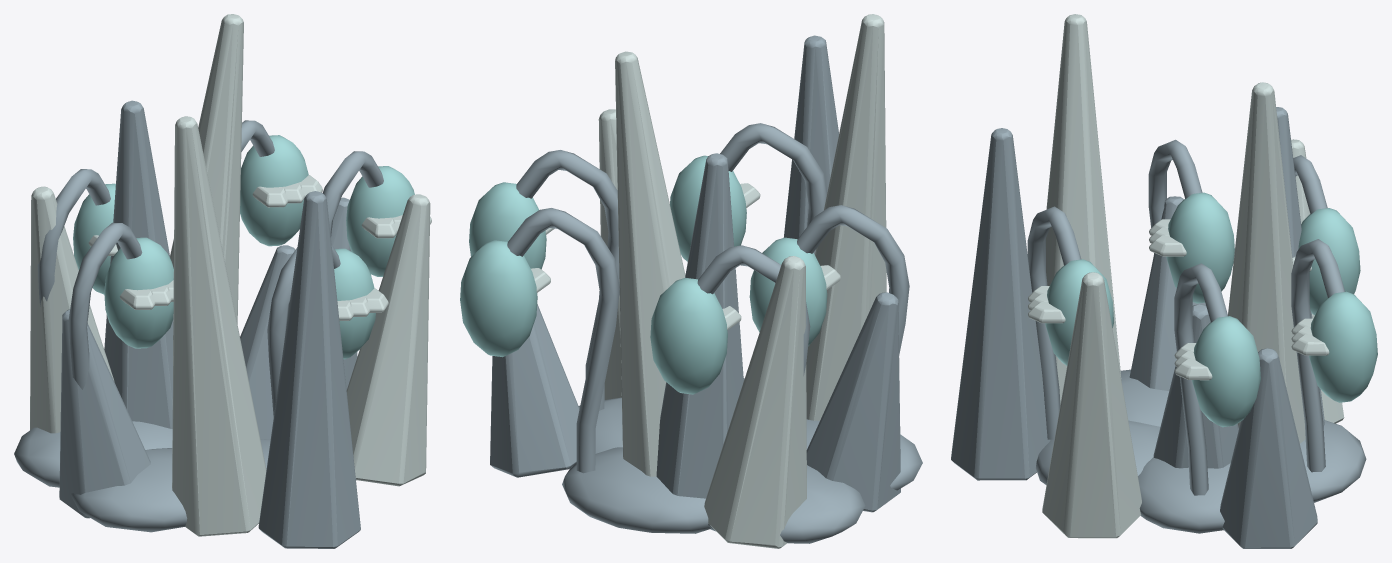
Rendered from bio_crystal_fan_03_far.glb.
3 renders of one model, left to right at view 1: azimuth 30°, elevation 25°; view 2: azimuth 150°, elevation 25°; view 3: azimuth 270°, elevation 25°, orthographic. The views are drawn at different scales.
Visible parts, largest first — view 1: Reflecting mineral prism.007, Reflecting mineral prism.002, Reflecting mineral prism.005, Reflecting mineral prism.006, Reflecting mineral prism.004, Mineral substrate, Reflecting mineral prism.003, Reflecting mineral prism.001, Pendant spore capsule.004, Pendant spore capsule.003, Pendant spore capsule, Reflecting mineral prism (+12 smaller); view 2: Reflecting mineral prism.001, Reflecting mineral prism.003, Reflecting mineral prism.007, Mineral substrate, Reflecting mineral prism.004, Reflecting mineral prism.006, Reflecting mineral prism.008, Pendant spore capsule.003, Pendant spore capsule.001, Arched fruit stem.003, Reflecting mineral prism.002, Arched fruit stem.004 (+7 smaller); view 3: Reflecting mineral prism.002, Reflecting mineral prism.005, Reflecting mineral prism.003, Reflecting mineral prism.008, Reflecting mineral prism.007, Mineral substrate, Pendant spore capsule.003, Pendant spore capsule, Reflecting mineral prism.004, Pendant spore capsule.004, Arched fruit stem.003, Arched fruit stem (+12 smaller).
Part boxes in pixels (x1=…): Reflecting mineral prism.007: x1=172, y1=116, x2=266, y2=536; Reflecting mineral prism.002: x1=258, y1=191, x2=360, y2=548; Reflecting mineral prism.005: x1=346, y1=194, x2=430, y2=486; Reflecting mineral prism.006: x1=104, y1=100, x2=173, y2=428; Reflecting mineral prism.004: x1=59, y1=309, x2=150, y2=518; Mineral substrate: x1=14, y1=421, x2=356, y2=532; Reflecting mineral prism.003: x1=170, y1=14, x2=243, y2=355; Reflecting mineral prism.001: x1=30, y1=186, x2=114, y2=433; Pendant spore capsule.004: x1=104, y1=237, x2=173, y2=348; Pendant spore capsule.003: x1=240, y1=135, x2=308, y2=246; Pendant spore capsule: x1=346, y1=166, x2=414, y2=276; Reflecting mineral prism: x1=240, y1=245, x2=295, y2=439; Reflecting mineral prism.001: x1=704, y1=256, x2=806, y2=548; Reflecting mineral prism.003: x1=615, y1=51, x2=685, y2=476; Reflecting mineral prism.007: x1=806, y1=14, x2=886, y2=420; Mineral substrate: x1=562, y1=378, x2=922, y2=543; Reflecting mineral prism.004: x1=806, y1=292, x2=900, y2=512; Reflecting mineral prism.006: x1=656, y1=153, x2=743, y2=498; Reflecting mineral prism.008: x1=490, y1=304, x2=579, y2=477; Pendant spore capsule.003: x1=460, y1=240, x2=537, y2=357; Pendant spore capsule.001: x1=650, y1=277, x2=727, y2=394; Arched fruit stem.003: x1=507, y1=208, x2=619, y2=473; Reflecting mineral prism.002: x1=783, y1=35, x2=838, y2=238; Arched fruit stem.004: x1=797, y1=205, x2=909, y2=355; Reflecting mineral prism.002: x1=951, y1=128, x2=1050, y2=480; Reflecting mineral prism.005: x1=1042, y1=272, x2=1141, y2=538; Reflecting mineral prism.003: x1=1228, y1=82, x2=1305, y2=443; Reflecting mineral prism.008: x1=1220, y1=348, x2=1317, y2=548; Reflecting mineral prism.007: x1=1046, y1=14, x2=1121, y2=404; Mineral substrate: x1=1036, y1=369, x2=1366, y2=533; Pendant spore capsule.003: x1=1309, y1=291, x2=1377, y2=402; Pendant spore capsule: x1=1192, y1=316, x2=1260, y2=427; Reflecting mineral prism.004: x1=1129, y1=196, x2=1205, y2=390; Pendant spore capsule.004: x1=1166, y1=192, x2=1234, y2=303; Arched fruit stem.003: x1=1291, y1=239, x2=1344, y2=472; Arched fruit stem: x1=1174, y1=263, x2=1227, y2=495.
Bounding box in the file's own units: 1.62 × 1.73 × 1.59.
